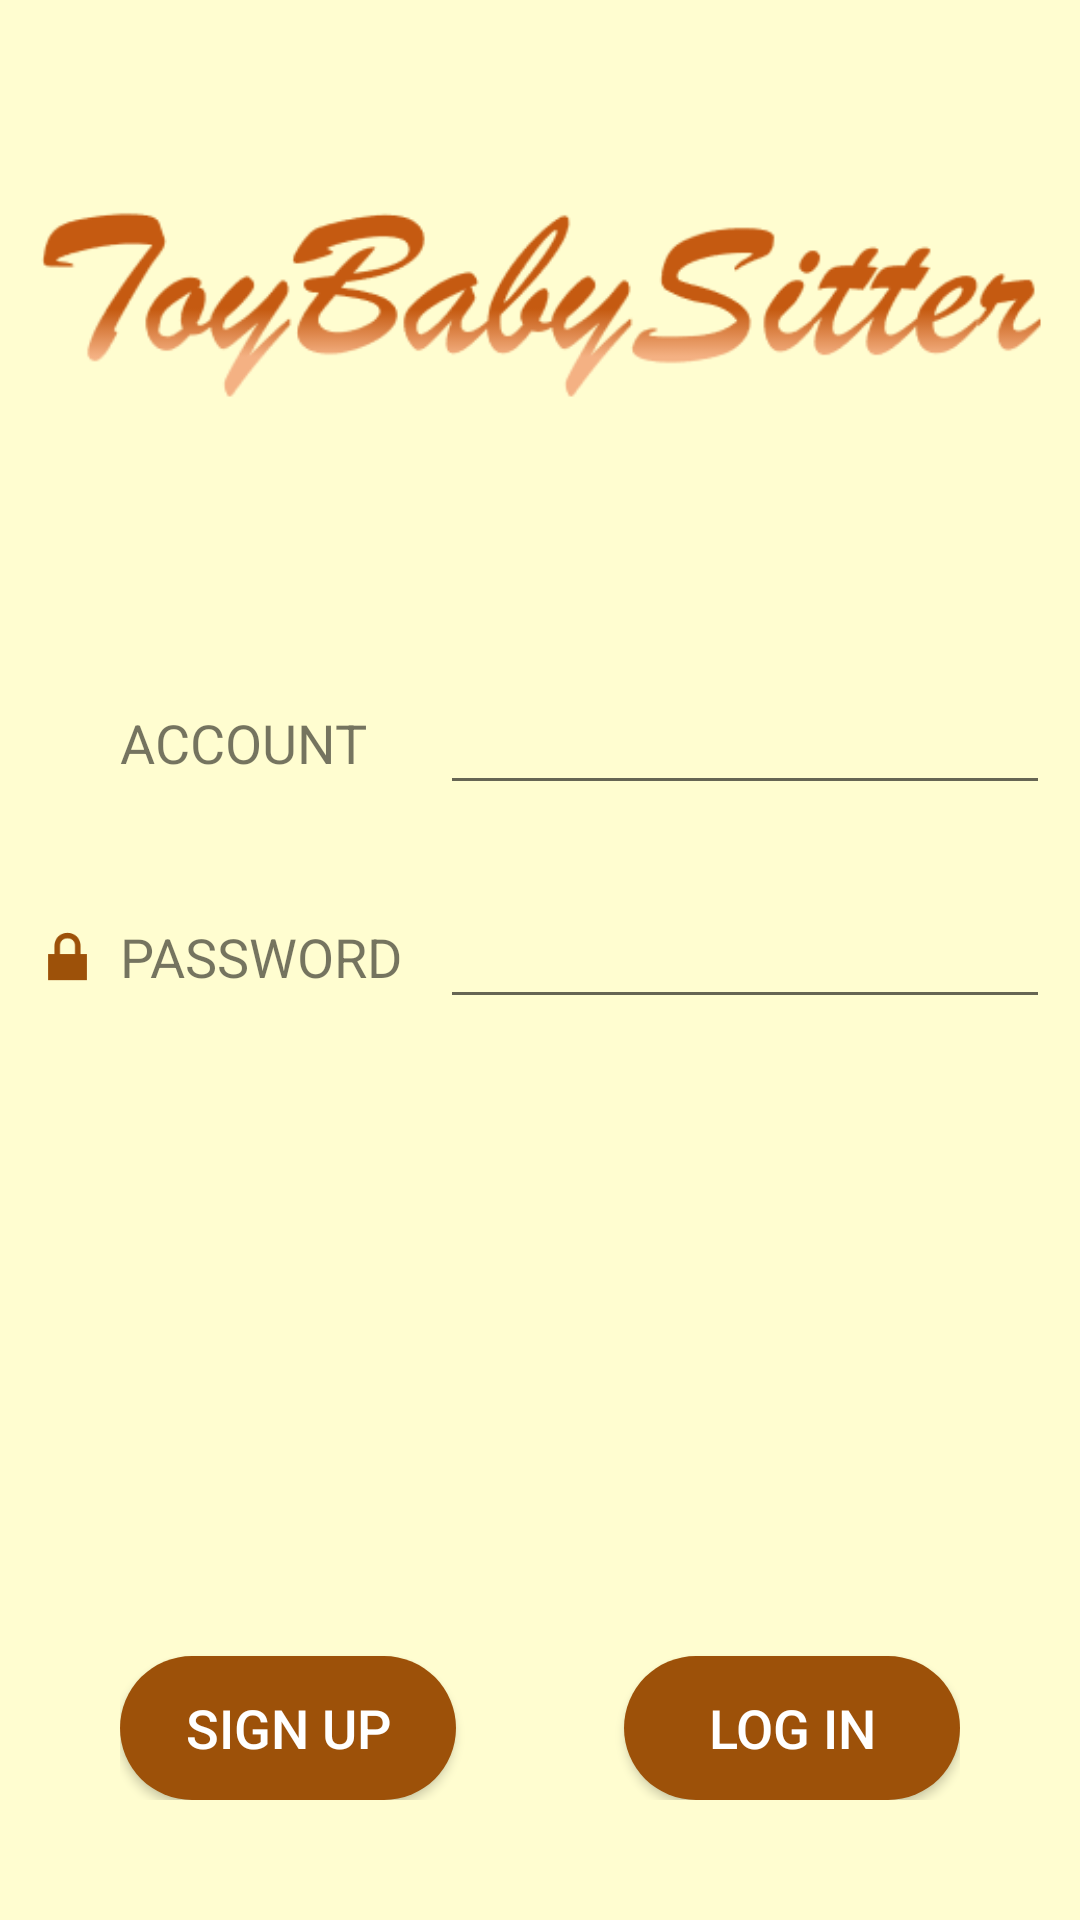

Locate icon controls on the screen. Image size 1080px x 1920px, boxes as [x1, y1, x2, y2].
lock: [48, 932, 87, 981]
